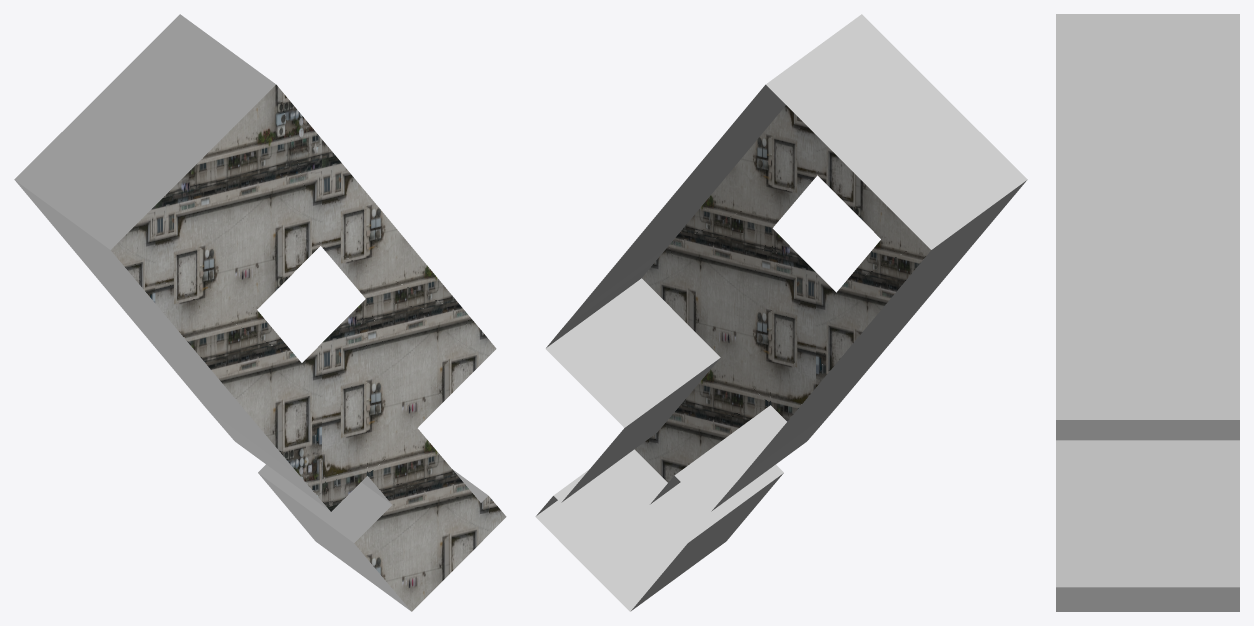
Rendered from geospecific_190.obj.
3 renders of one model, left to right at view 1: azimuth 30°, elevation 25°; view 2: azimuth 150°, elevation 25°; view 3: azimuth 270°, elevation 25°, orthographic. The views are drawn at different scales.
Parts seen in each view (by area): view 1: Building; view 2: Building; view 3: Building.
Part boxes in pixels (left/top/right/bottom): Building: left=14, top=14, right=506, bottom=611; Building: left=535, top=14, right=1027, bottom=611; Building: left=1056, top=14, right=1239, bottom=611.
Size of the model in its own units: 21.36 by 28.9 by 9.
